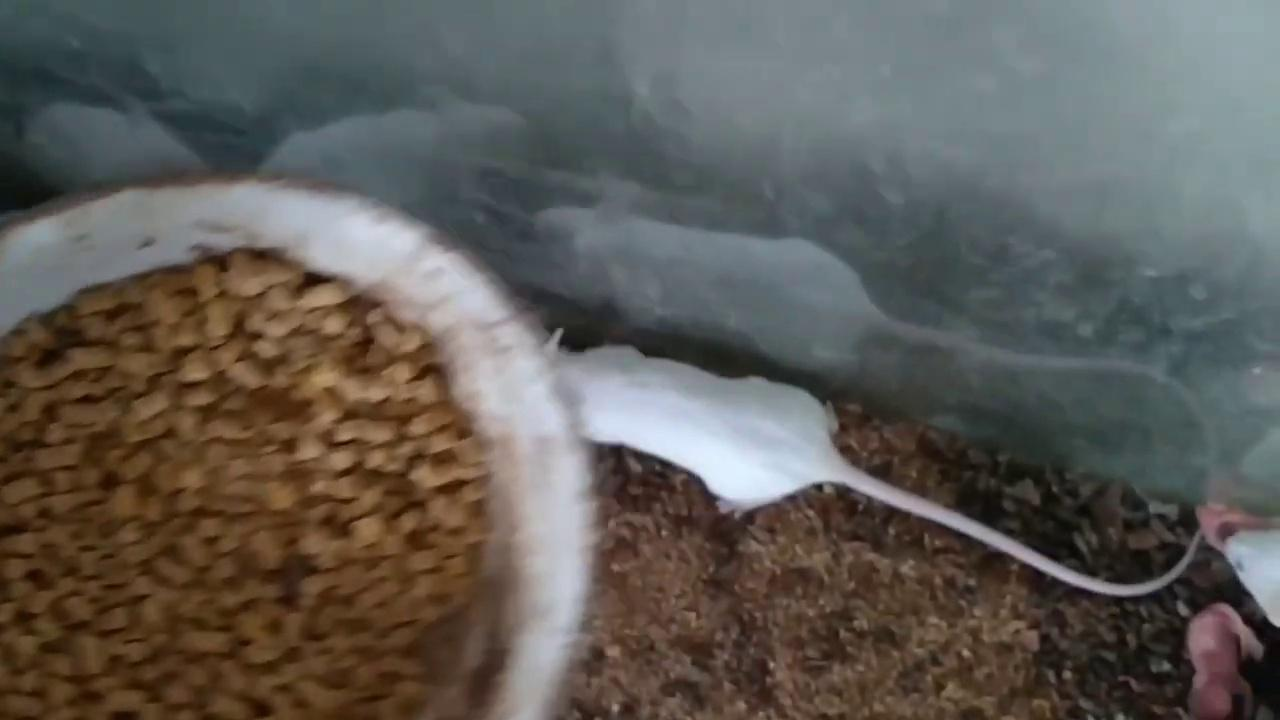rat: (546, 327, 1206, 595)
